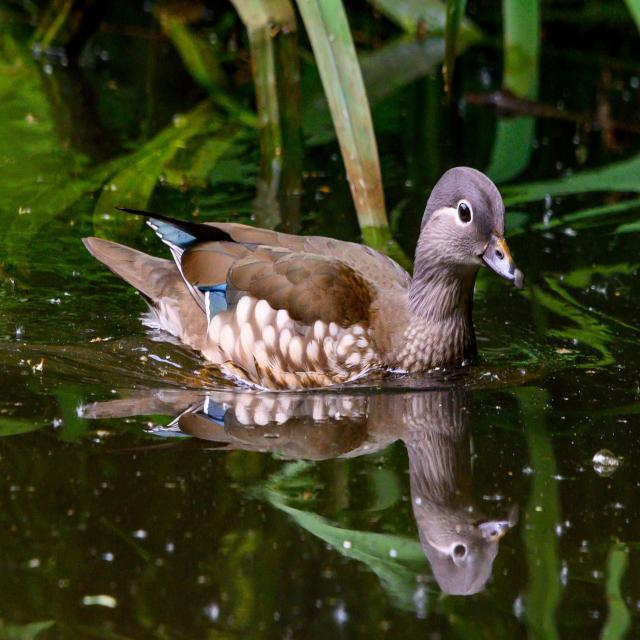Duck: (80, 157, 532, 401)
